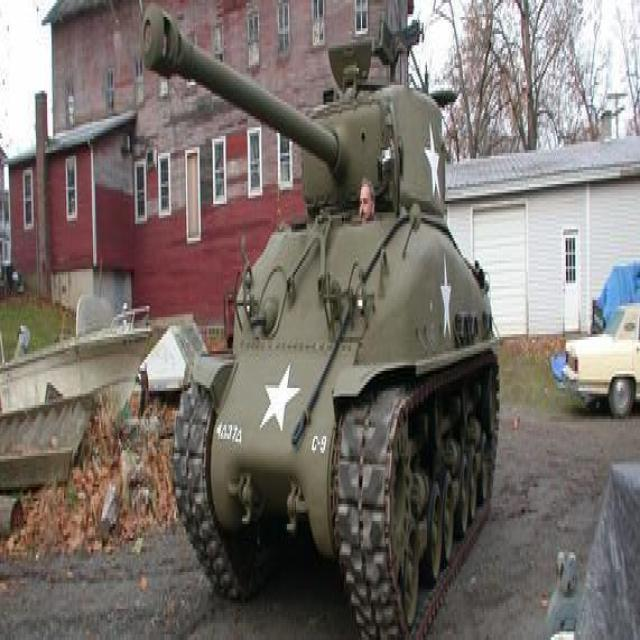MIL_MBT: (146, 21, 540, 602)
